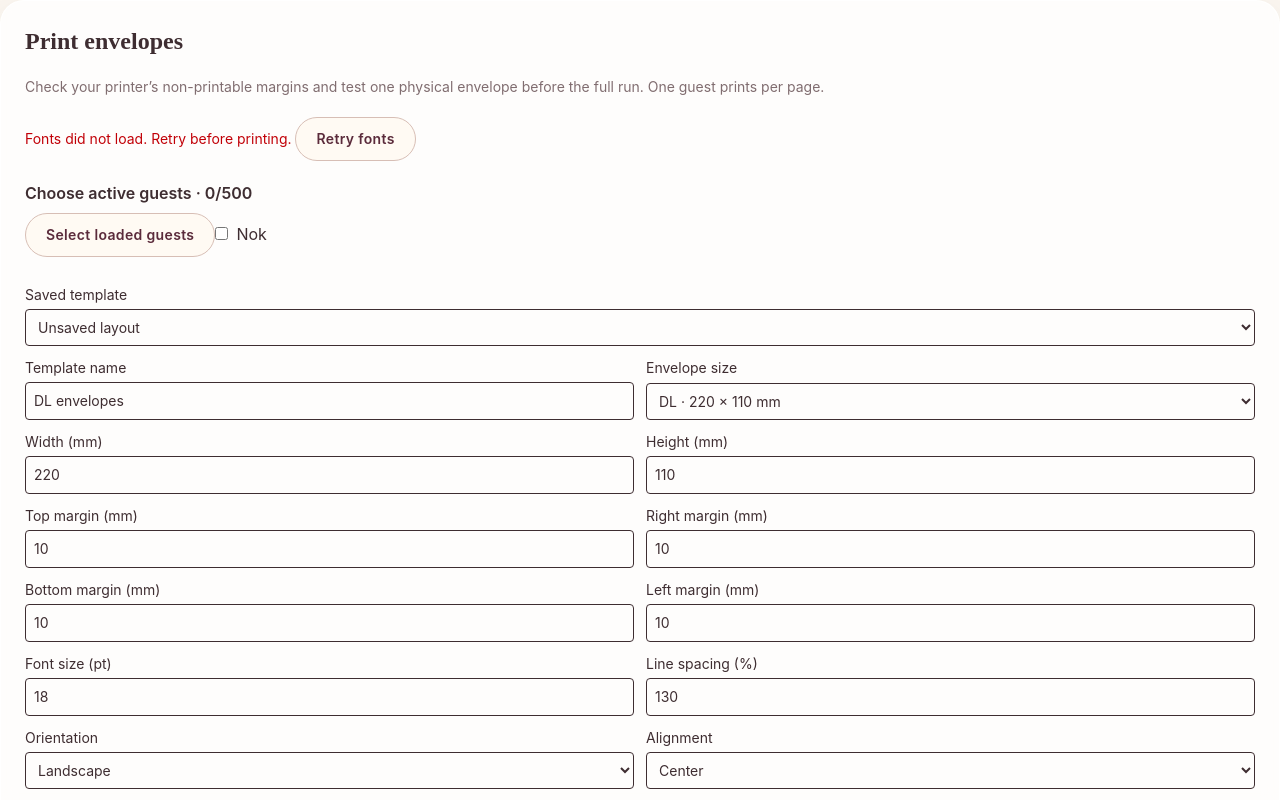
Test case: EnvelopeWorkspace › keeps font failure visible after preview and allows retry
This screenshot has width=1280, height=800.
Click the checkbox named "print nok" at (222, 234), box x1=215 y1=227 x2=228 y2=240
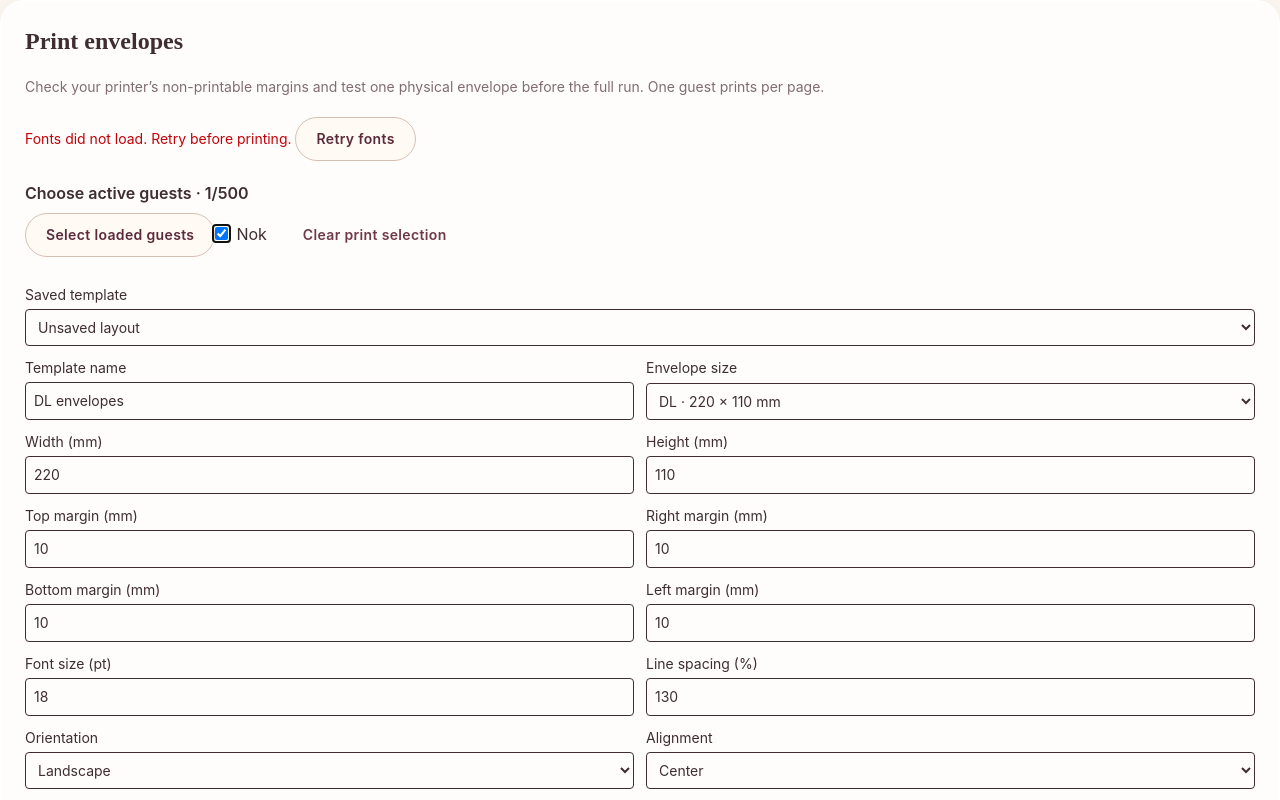
Check: the message shows "Fonts did not load", box x1=25 y1=130 x2=292 y2=147
Click the button "Retry fonts" at (356, 139), box x1=296 y1=117 x2=416 y2=161
(page scrolled)
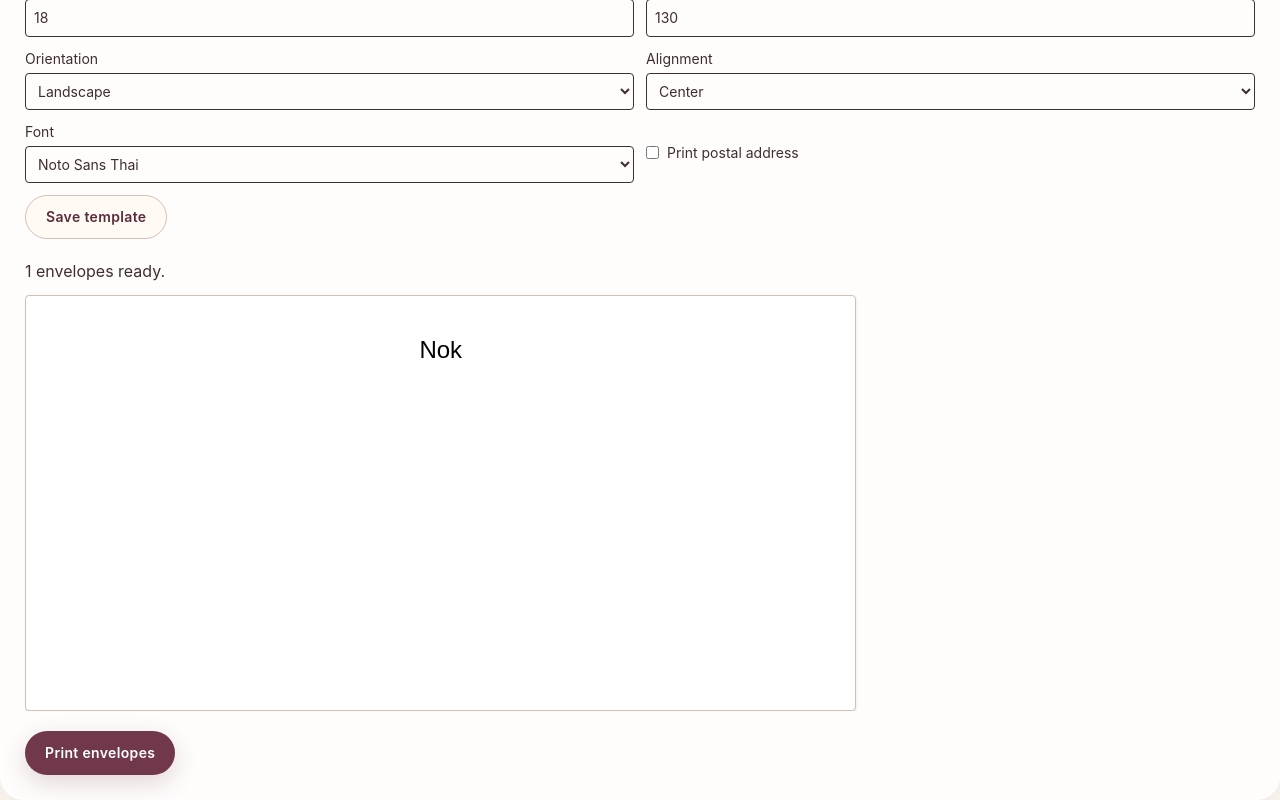
Check: the button "Print envelopes" is enabled, box x1=25 y1=731 x2=175 y2=775
